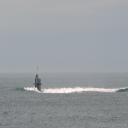submarine: (31, 68, 44, 93)
